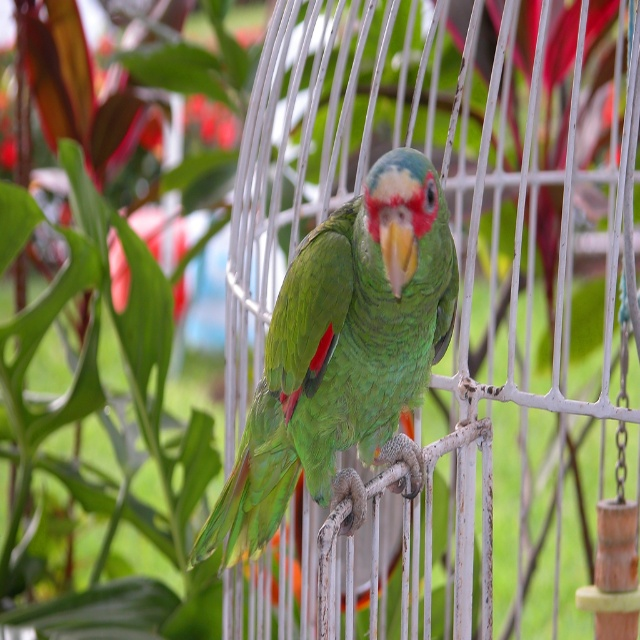Parrot: (185, 147, 460, 579)
